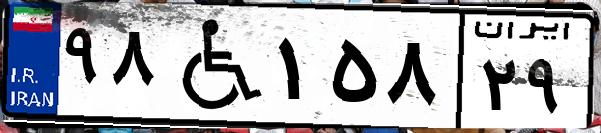1: (270, 28, 330, 110)
2: (475, 38, 525, 113)
5: (330, 28, 385, 110)
8: (385, 28, 445, 110), (110, 28, 158, 98)
9: (57, 26, 110, 100), (525, 38, 570, 115)
ژ (معلولین و جانبازان): (158, 12, 270, 120)
